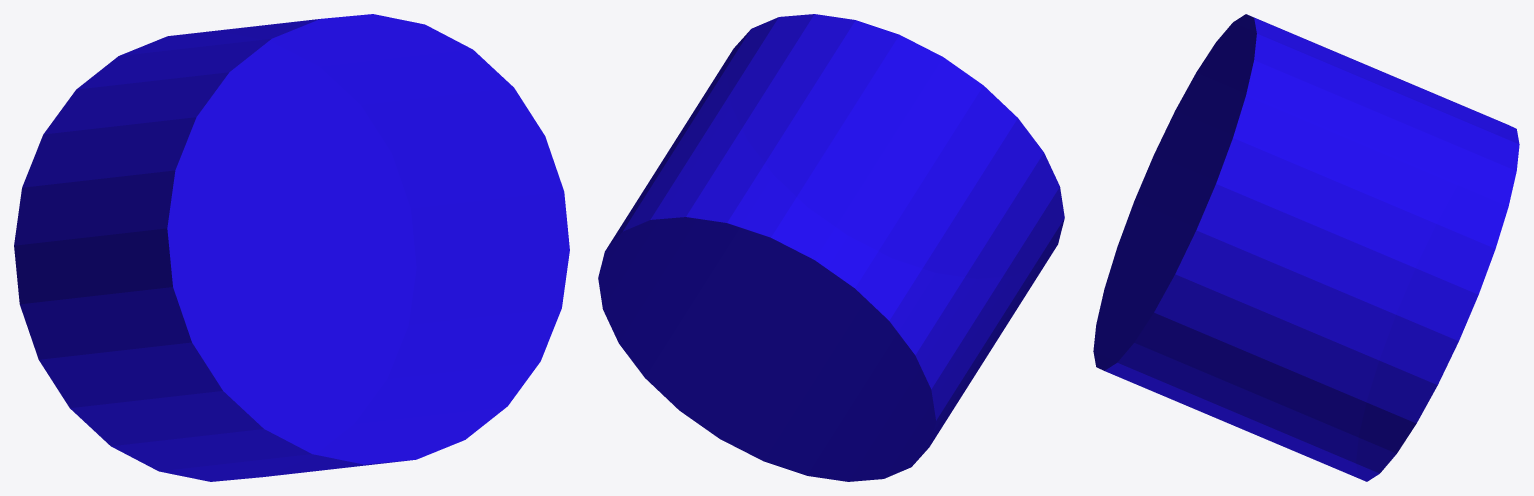
Rendered from original-99.obj.
The picture shows the model from 3 angles, left to right: view 1: azimuth 30°, elevation 25°; view 2: azimuth 150°, elevation 25°; view 3: azimuth 270°, elevation 25°; orthographic projection. The views are drawn at different scales.
Visible parts, largest first — view 1: mesh98/mesh98-geometry#mesh98-geometry; view 2: mesh98/mesh98-geometry#mesh98-geometry; view 3: mesh98/mesh98-geometry#mesh98-geometry.
Boxes of the visible parts, box(x1,y1,x2,y2) form: mesh98/mesh98-geometry#mesh98-geometry: box(14, 14, 569, 481); mesh98/mesh98-geometry#mesh98-geometry: box(598, 14, 1064, 481); mesh98/mesh98-geometry#mesh98-geometry: box(1093, 14, 1519, 481).
Size of the model in its own units: 0.0367 by 0.0448 by 0.0404.
